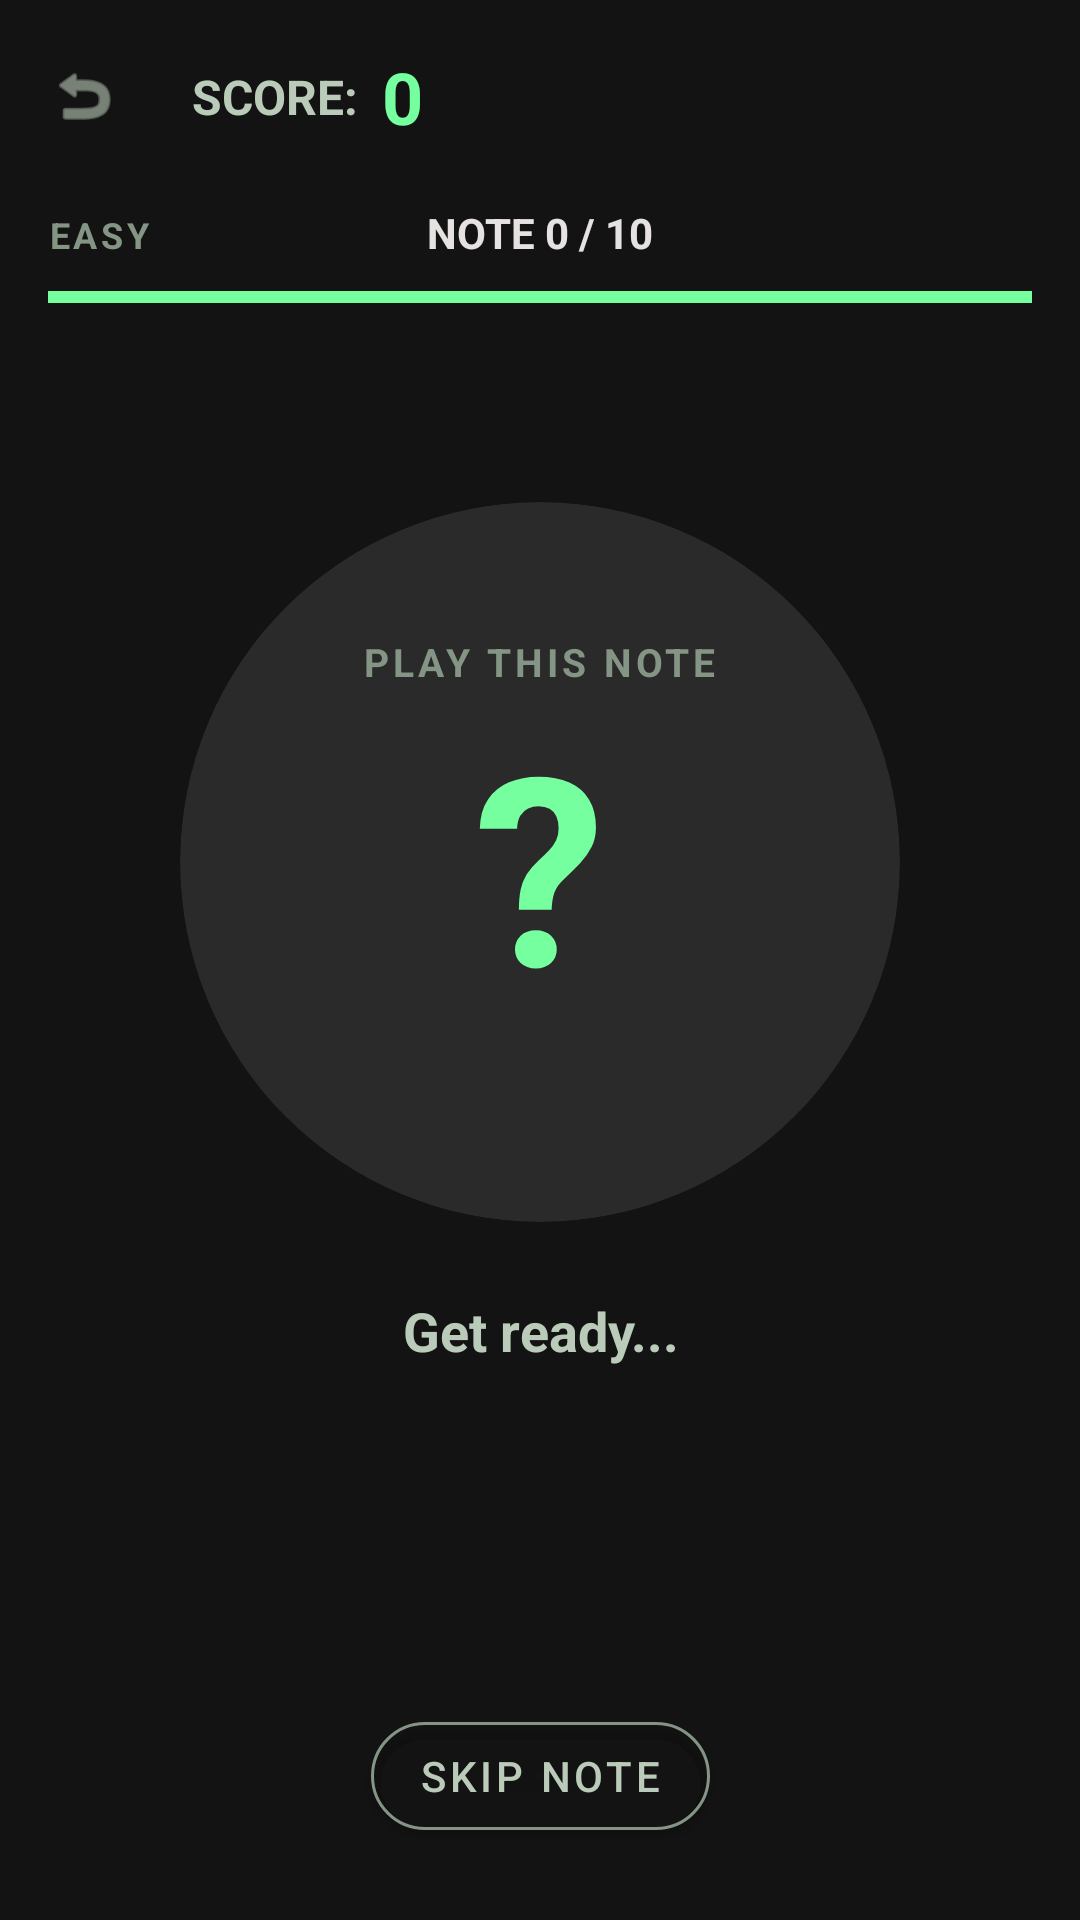

Locate icon controls on the screen. Image size 1080 x 1920, boxes as rect(x1, y1, x2, y2).
Back: rect(59, 73, 111, 120)
